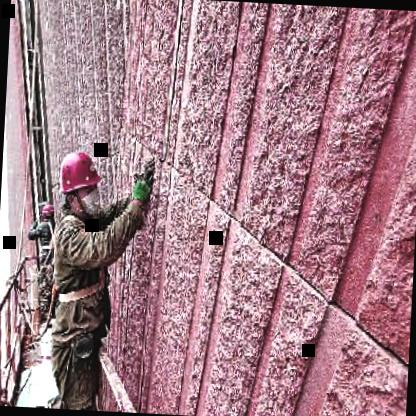helmet: (55, 145, 103, 224), (38, 201, 56, 233)
